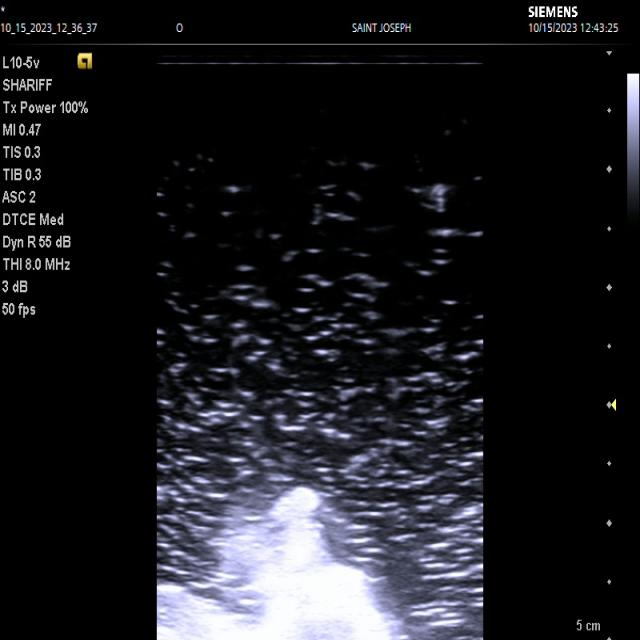tissue: (157, 489, 399, 640)
